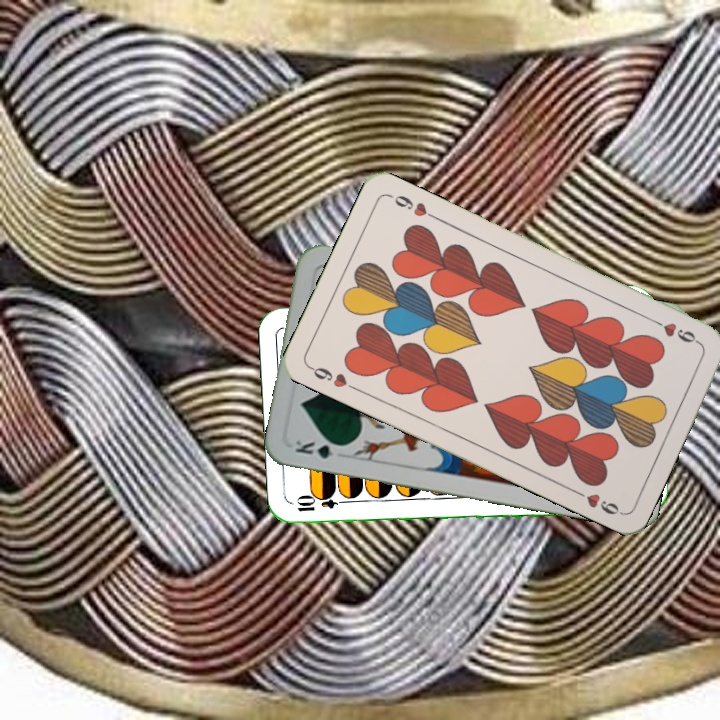E10: (292, 494, 352, 515)
GK: (291, 435, 349, 462)
H9: (647, 314, 703, 347), (305, 362, 361, 394)
